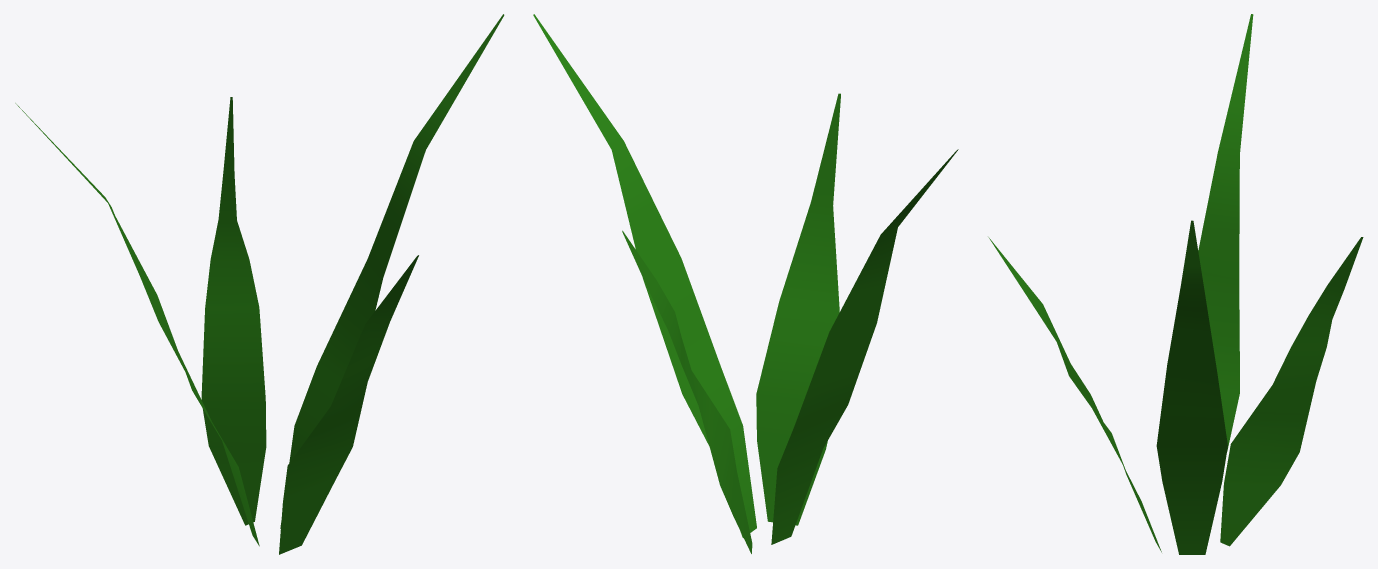
The model's file is SM_Grass_01.fbx.
3 renders of one model, left to right at view 1: azimuth 30°, elevation 25°; view 2: azimuth 150°, elevation 25°; view 3: azimuth 270°, elevation 25°, orthographic. The views are drawn at different scales.
Visible parts, largest first — view 1: SM_Grass_01; view 2: SM_Grass_01; view 3: SM_Grass_01.
Boxes of the visible parts, <box> form: SM_Grass_01: <box>15,14,504,554</box>; SM_Grass_01: <box>533,14,958,553</box>; SM_Grass_01: <box>988,14,1363,554</box>.
Size of the model in its own units: 15.5 by 15.15 by 11.91.
